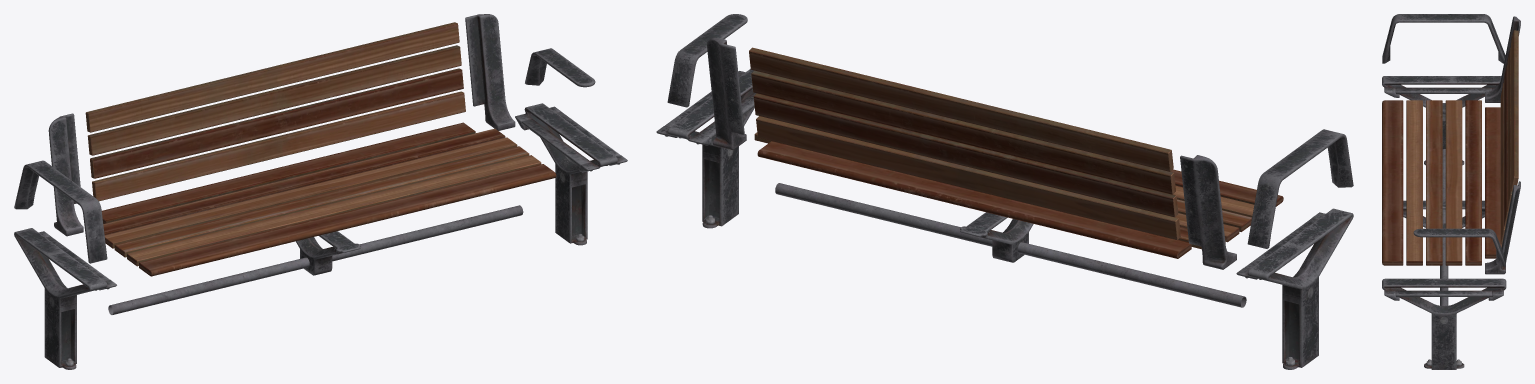
Rendered from street-bench.glb.
The picture shows the model from 3 angles, left to right: view 1: azimuth 30°, elevation 25°; view 2: azimuth 150°, elevation 25°; view 3: azimuth 270°, elevation 25°; orthographic projection. The views are drawn at different scales.
Parts seen in each view (by area): view 1: seat, crossbar, legs_double; view 2: seat, crossbar, legs_double; view 3: seat, legs_double, crossbar.
Part boxes in pixels (<box>): seat: <box>85,22,556,276</box>; crossbar: <box>14,14,595,314</box>; legs_double: <box>14,103,627,369</box>; seat: <box>749,47,1283,258</box>; crossbar: <box>667,14,1353,307</box>; legs_double: <box>656,69,1353,369</box>; seat: <box>1382,30,1518,265</box>; legs_double: <box>1382,76,1506,369</box>; crossbar: <box>1382,14,1520,305</box>.
Size of the model in its own units: 2.45 by 0.8669 by 0.6704.
3 materials, 3 textured.
